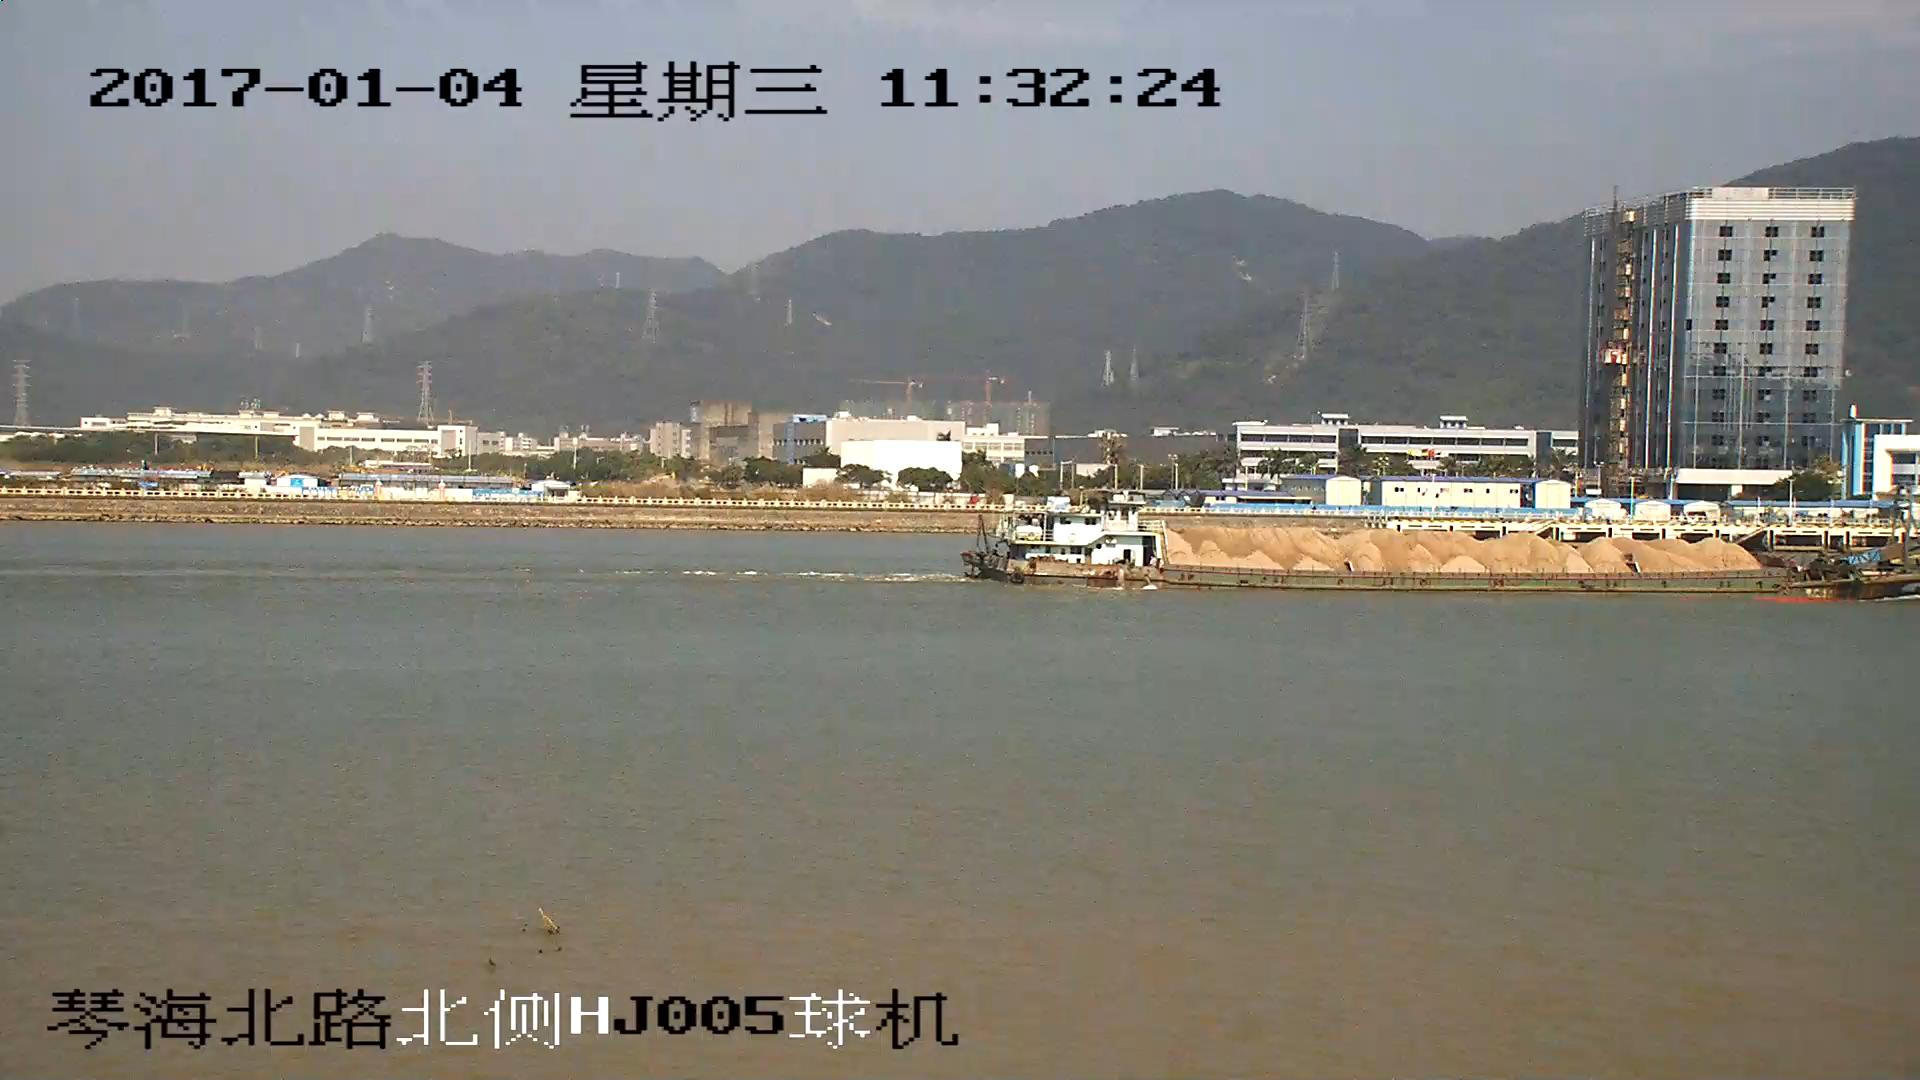ore carrier: (968, 492, 1920, 596)
